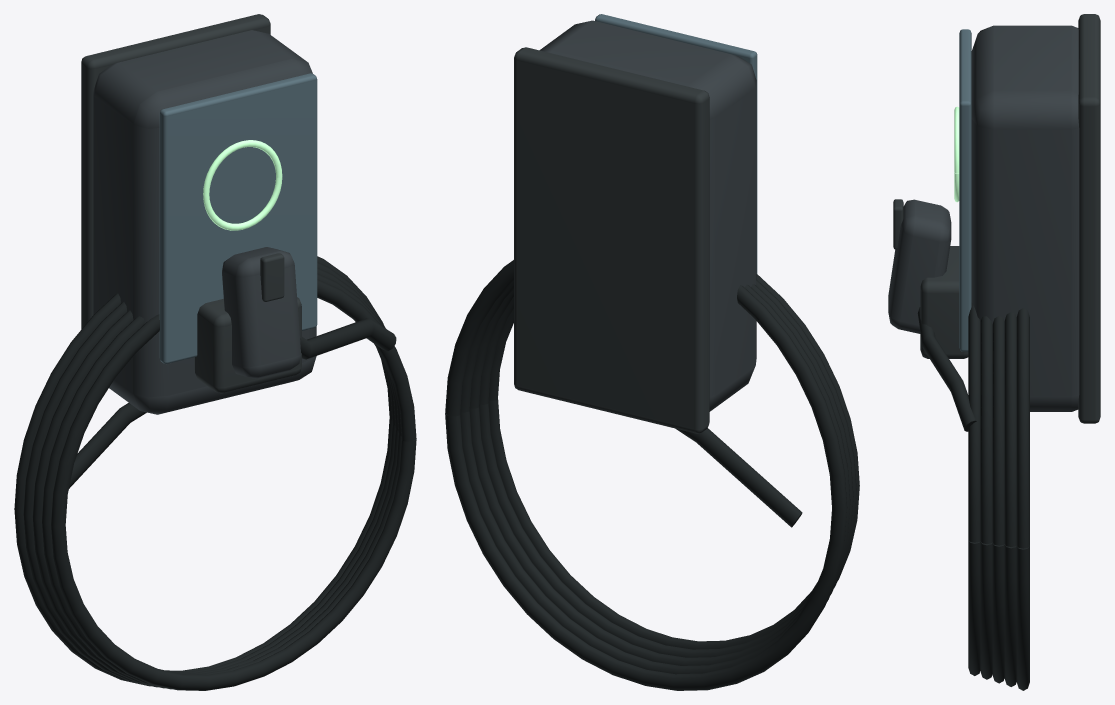
Rendered from garage-ev-charger.glb.
The picture shows the model from 3 angles, left to right: view 1: azimuth 30°, elevation 25°; view 2: azimuth 150°, elevation 25°; view 3: azimuth 270°, elevation 25°; orthographic projection. The views are drawn at different scales.
Parts seen in each view (by area): view 1: garage-ev-charger authored assembly; view 2: garage-ev-charger authored assembly; view 3: garage-ev-charger authored assembly.
Part boxes in pixels (<box>): garage-ev-charger authored assembly: <box>14,14,416,690</box>; garage-ev-charger authored assembly: <box>445,14,859,690</box>; garage-ev-charger authored assembly: <box>888,14,1100,690</box>.
Size of the model in its own units: 0.42 by 0.64 by 0.2.
